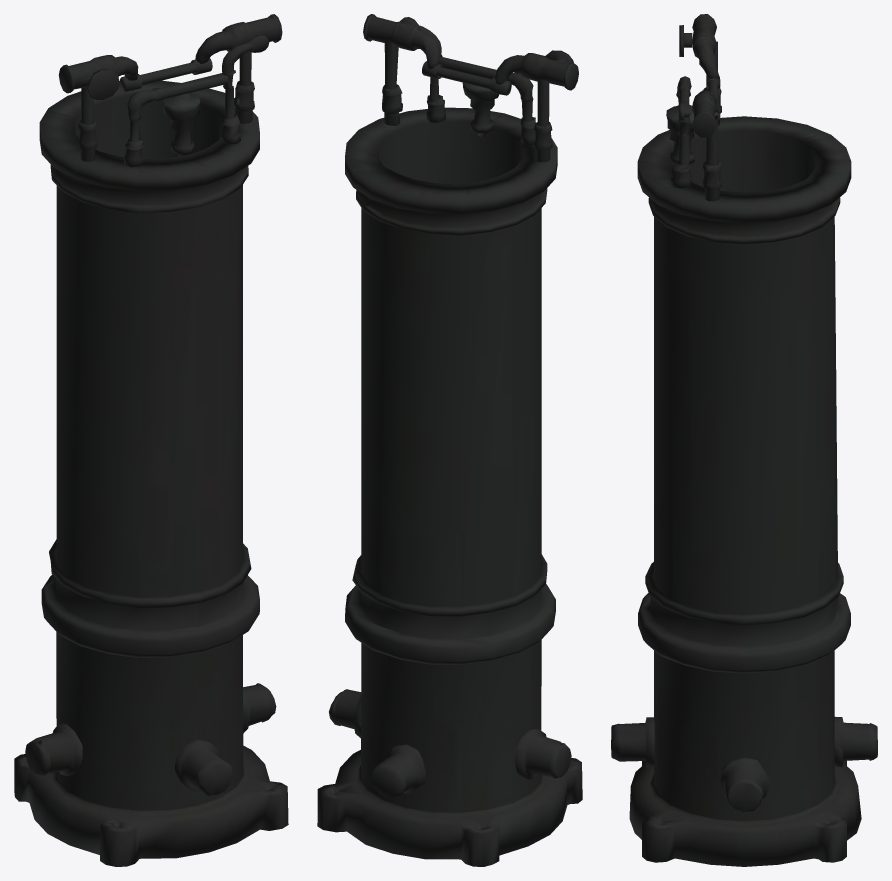
Rendered from specimen-tank.glb.
3 renders of one model, left to right at view 1: azimuth 30°, elevation 25°; view 2: azimuth 150°, elevation 25°; view 3: azimuth 270°, elevation 25°, orthographic. The views are drawn at different scales.
Bounding box in the file's own units: 0.3143 × 1 × 0.32.
1 material, 1 textured.
